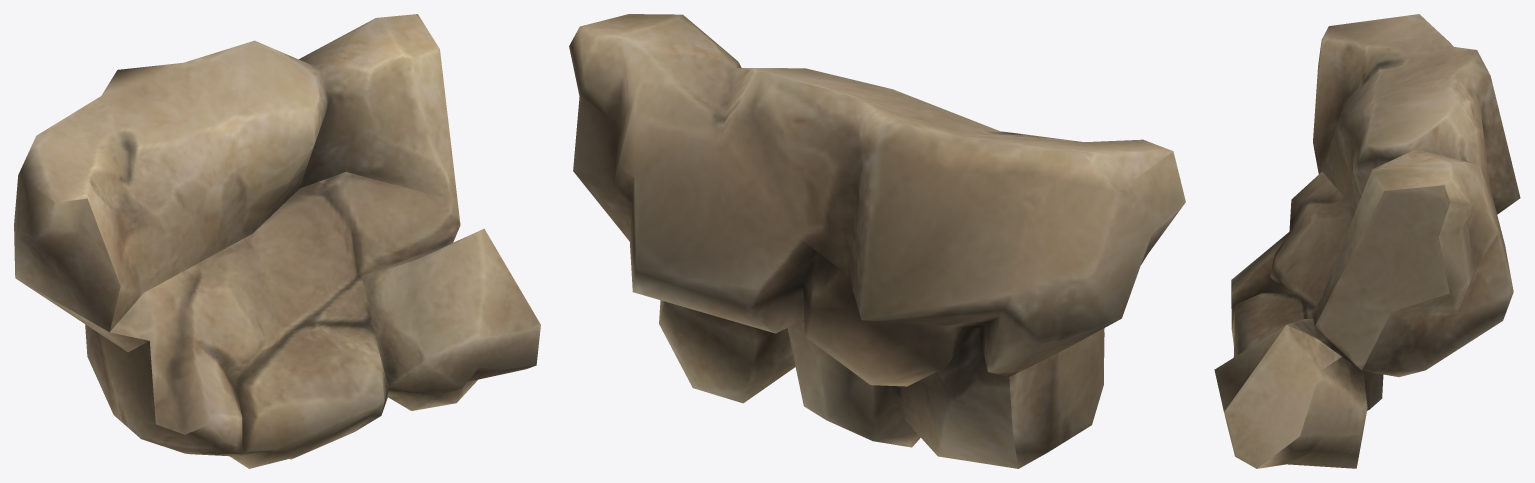
File: Ground03_Terrain_LostTemple_001.FBX
The picture shows the model from 3 angles, left to right: view 1: azimuth 30°, elevation 25°; view 2: azimuth 150°, elevation 25°; view 3: azimuth 270°, elevation 25°; orthographic projection. The views are drawn at different scales.
Parts seen in each view (by area): view 1: Ground03_Terrain_LostTemple_001; view 2: Ground03_Terrain_LostTemple_001; view 3: Ground03_Terrain_LostTemple_001.
Part boxes in pixels (x1,y1,x2,y2): Ground03_Terrain_LostTemple_001: [14, 14, 540, 468]; Ground03_Terrain_LostTemple_001: [569, 14, 1185, 468]; Ground03_Terrain_LostTemple_001: [1214, 14, 1520, 468].
Bounding box in the file's own units: 648 × 487 × 397.
1 material, 1 textured.
